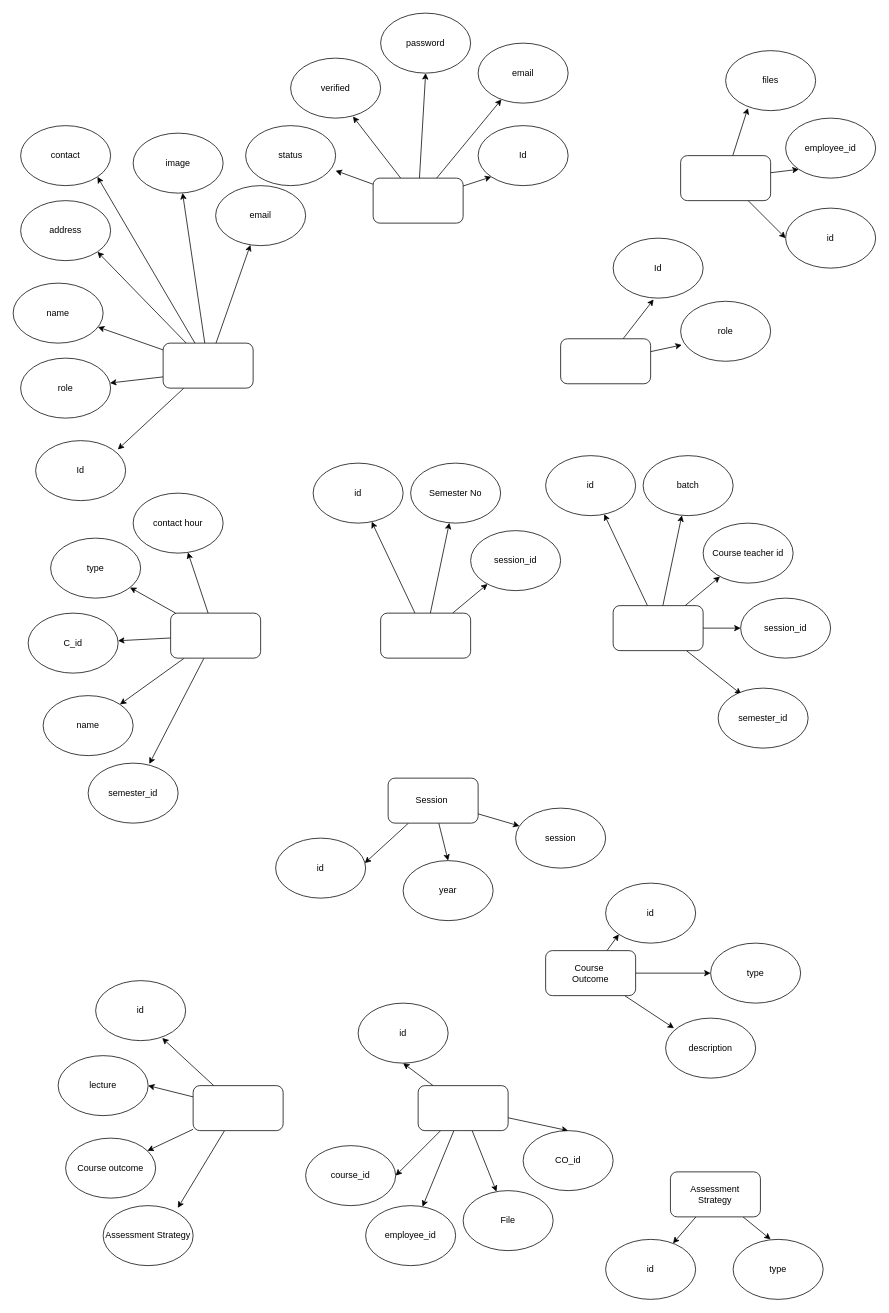
This 889x1313 diagram has some shape labels left out. The shapes that lost their labels are listed below. From the top down, each one's centre as x and y in pixels, then its label:
At (725,178): "Documents".
At (417,200): "login".
At (207,365): "Employees".
At (605,361): "roles".
At (215,635): "course".
At (425,635): "Semester".
At (657,628): "section".
At (237,1108): "Course Schedule".
At (462,1108): "Course update".
